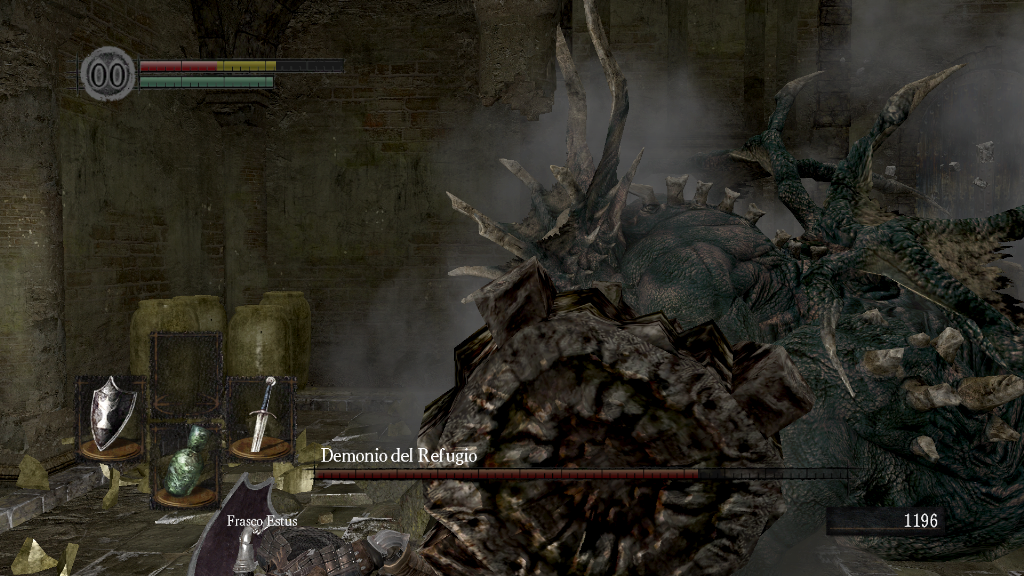asylumDemon: (417, 2, 1024, 575)
bossHP: (314, 469, 847, 479)
health: (138, 58, 343, 71)
humanity: (80, 45, 136, 102)
player: (192, 468, 435, 576)
souls: (825, 506, 945, 536)
stamina: (138, 74, 274, 88)
